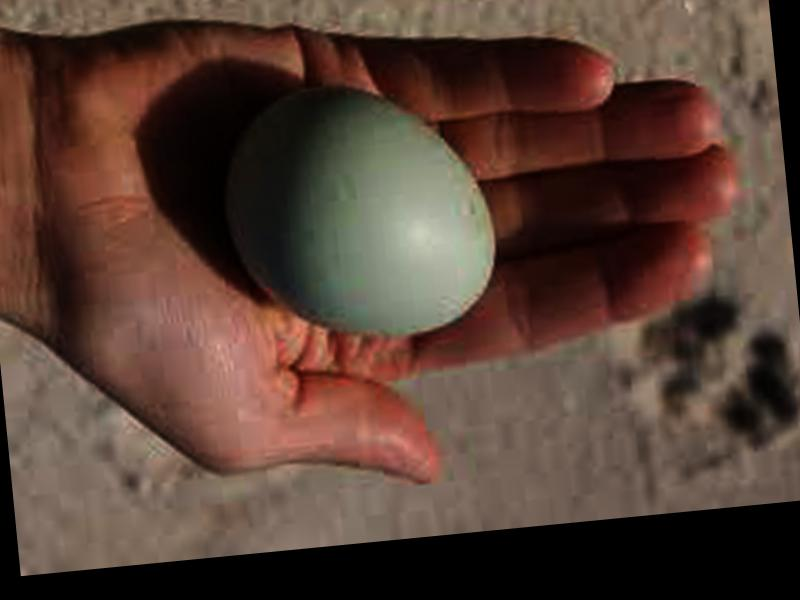Eggs: (219, 73, 506, 348)
